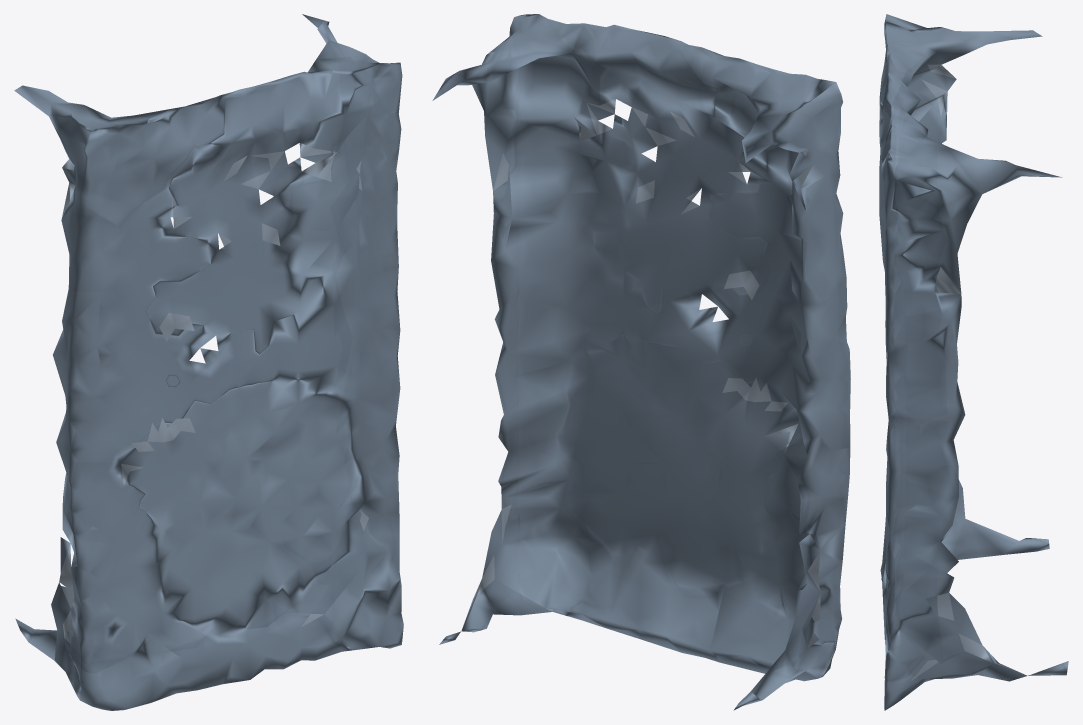
Rendered from table_0204_recon.obj.
3 views of the same model, side by side, from view 1: azimuth 30°, elevation 25°; view 2: azimuth 150°, elevation 25°; view 3: azimuth 270°, elevation 25° (orthographic). The views are drawn at different scales.
Bounding box in the file's own units: 0.9472 × 1.62 × 0.4944.
